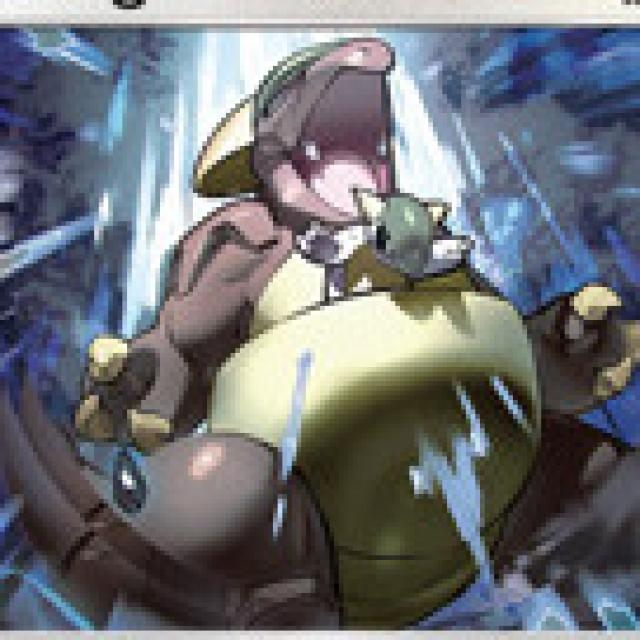Kangaskhan: (132, 33, 625, 603)
